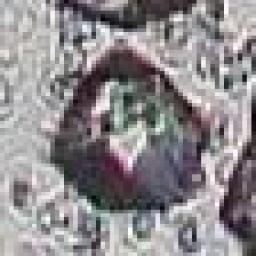crystals: (50, 42, 204, 213)
